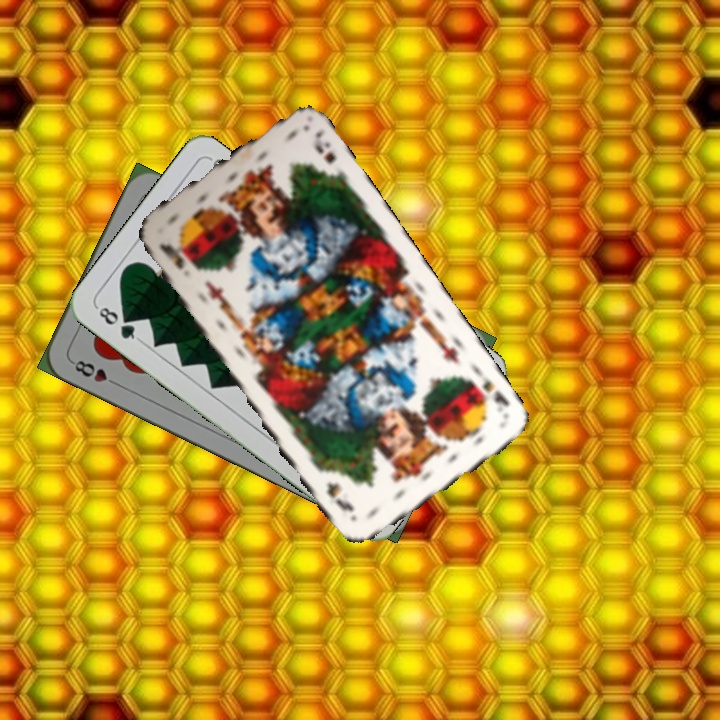G8: (92, 300, 143, 344)
H8: (67, 356, 122, 389)
SK: (465, 366, 512, 409), (154, 239, 187, 272)
